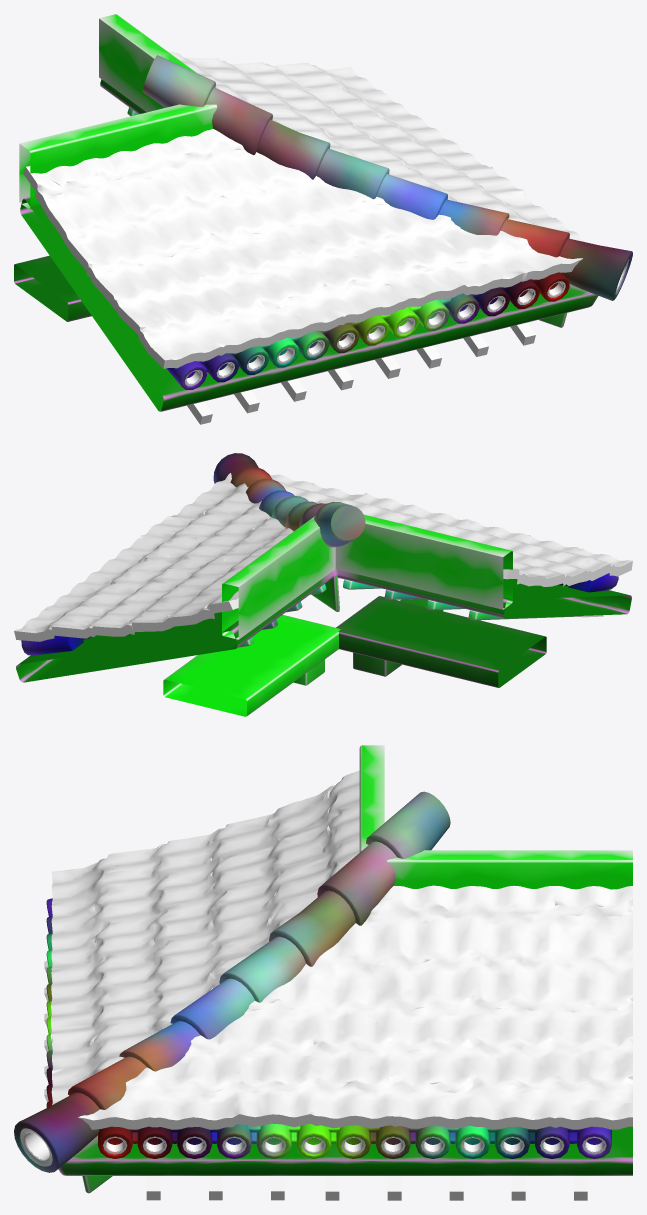
The model's file is overhang_side_100_01_corner.fbx.
The picture shows the model from 3 angles, top to bottom: view 1: azimuth 30°, elevation 25°; view 2: azimuth 150°, elevation 25°; view 3: azimuth 270°, elevation 25°; orthographic projection. The views are drawn at different scales.
Visible parts, largest first — view 1: overhang_side_100_01_corner; view 2: overhang_side_100_01_corner; view 3: overhang_side_100_01_corner.
Boxes of the visible parts, bbox=[...] form: overhang_side_100_01_corner: bbox=[14, 14, 632, 424]; overhang_side_100_01_corner: bbox=[14, 453, 632, 716]; overhang_side_100_01_corner: bbox=[14, 745, 632, 1200].
Size of the model in its own units: 2.49 by 1.14 by 2.49.
